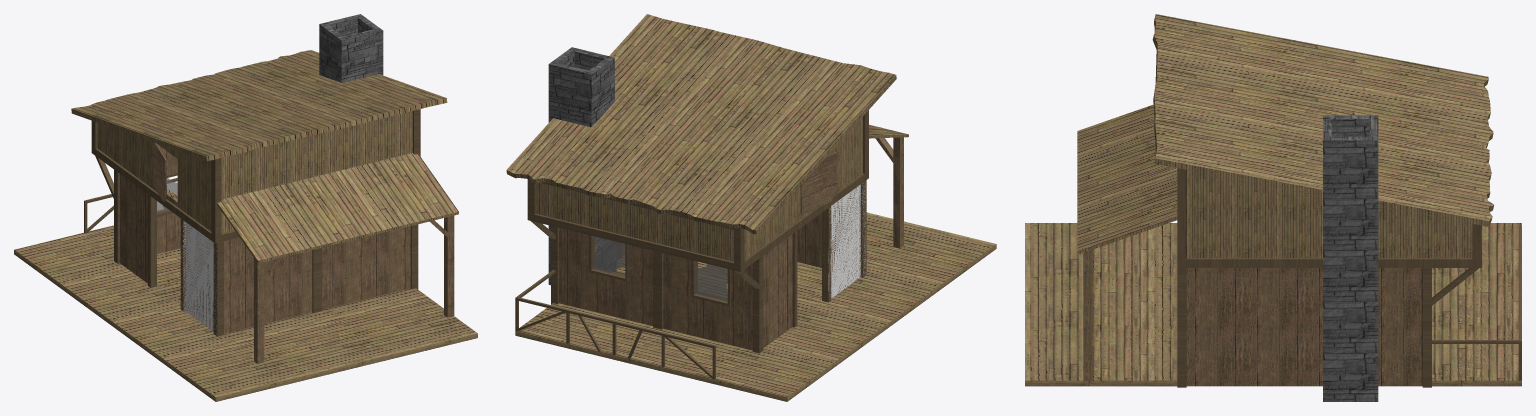
3 renders of one model, left to right at view 1: azimuth 30°, elevation 25°; view 2: azimuth 150°, elevation 25°; view 3: azimuth 270°, elevation 25°, orthographic. The views are drawn at different scales.
Visible parts, largest first — view 1: SketchUp (×16); view 2: SketchUp (×22); view 3: SketchUp (×11).
Part boxes in pixels (x1=…): SketchUp (×16): x1=14, y1=14, x2=477, y2=401; SketchUp (×22): x1=506, y1=14, x2=996, y2=401; SketchUp (×11): x1=1025, y1=14, x2=1521, y2=401.
Size of the model in its own units: 260 by 315 by 183.
6 materials, 4 textured.
